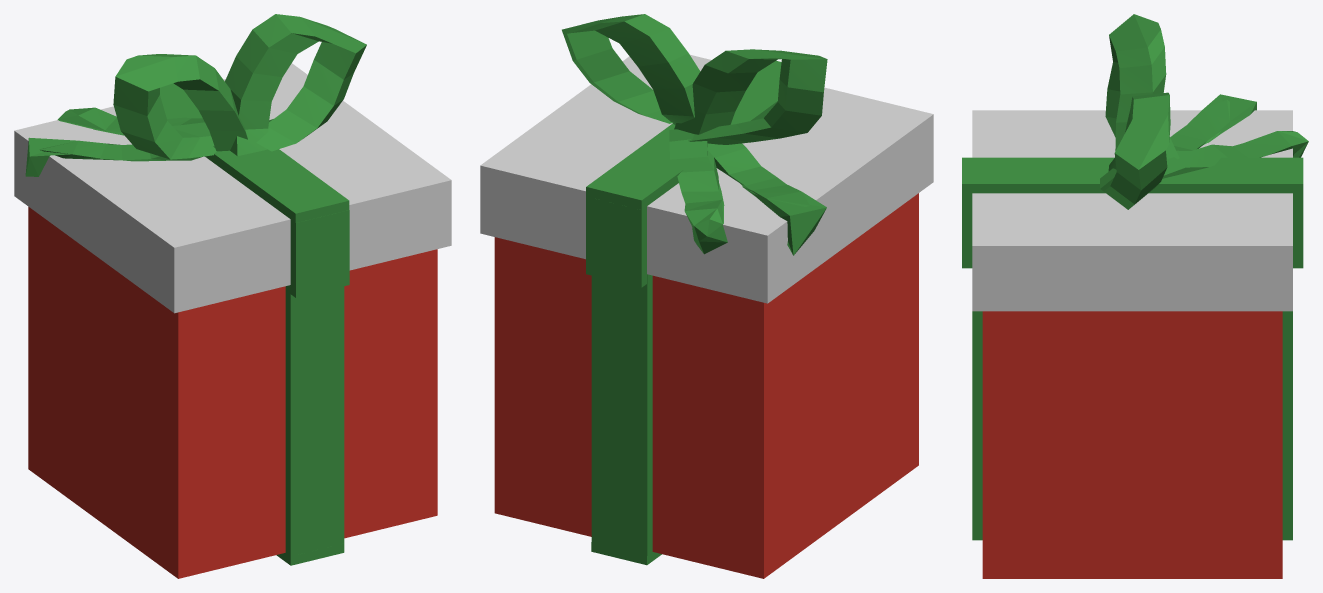
Rendered from present_3.gltf.
3 views of the same model, side by side, from view 1: azimuth 30°, elevation 25°; view 2: azimuth 150°, elevation 25°; view 3: azimuth 270°, elevation 25° (orthographic). The views are drawn at different scales.
Parts seen in each view (by area): view 1: node_MeshObject-23165952-PolyPaper21; view 2: node_MeshObject-23165952-PolyPaper21; view 3: node_MeshObject-23165952-PolyPaper21.
Boxes of the visible parts, <box> form: node_MeshObject-23165952-PolyPaper21: <box>14,14,451,578</box>; node_MeshObject-23165952-PolyPaper21: <box>480,14,933,578</box>; node_MeshObject-23165952-PolyPaper21: <box>962,14,1308,578</box>.
Size of the model in its own units: 0.3334 by 0.4905 by 0.3353.
